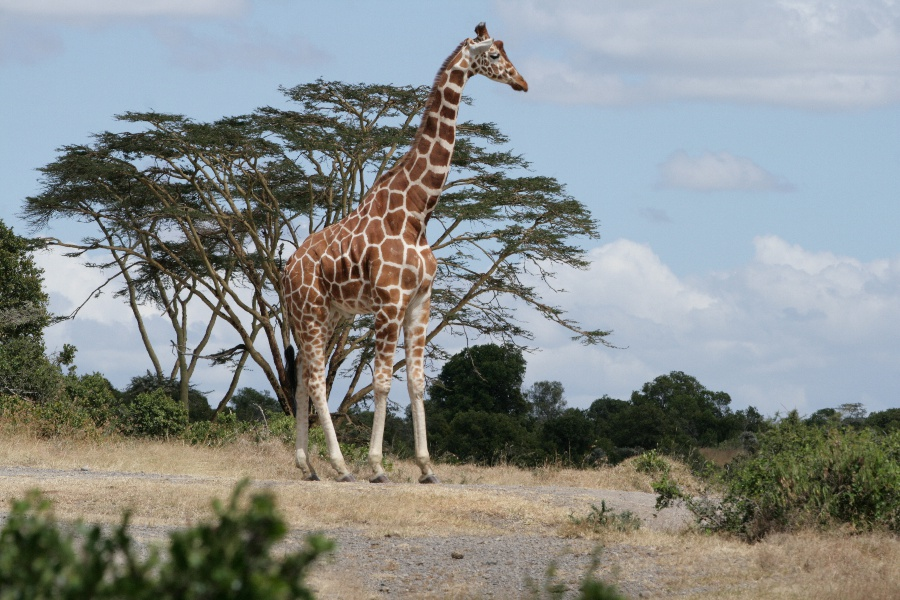giraffe: (273, 12, 529, 490)
